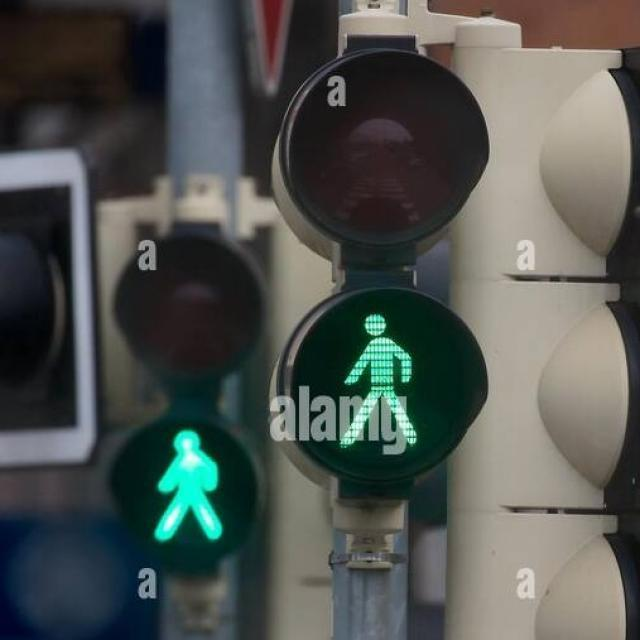geen-crossing: (314, 298, 432, 456)
